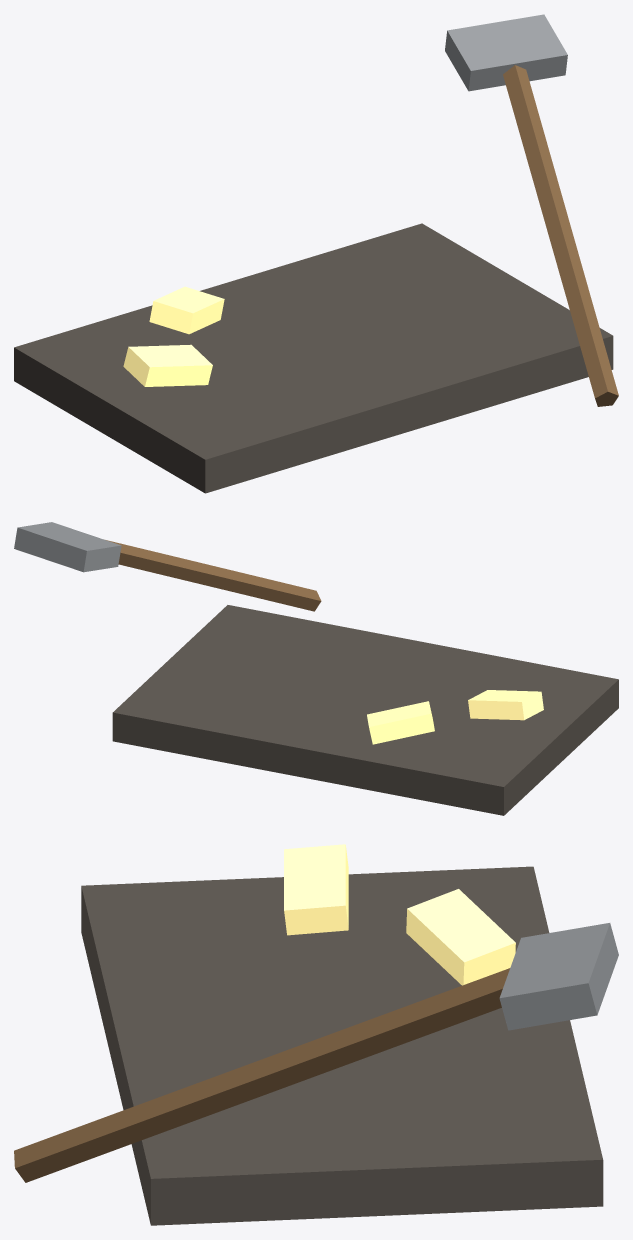
File: harthmere_chapel_relic_dig.lod1.glb
3 renders of one model, top to bottom at view 1: azimuth 30°, elevation 25°; view 2: azimuth 150°, elevation 25°; view 3: azimuth 270°, elevation 25°, orthographic. The views are drawn at different scales.
Size of the model in its own units: 1.71 by 0.6462 by 1.17.
